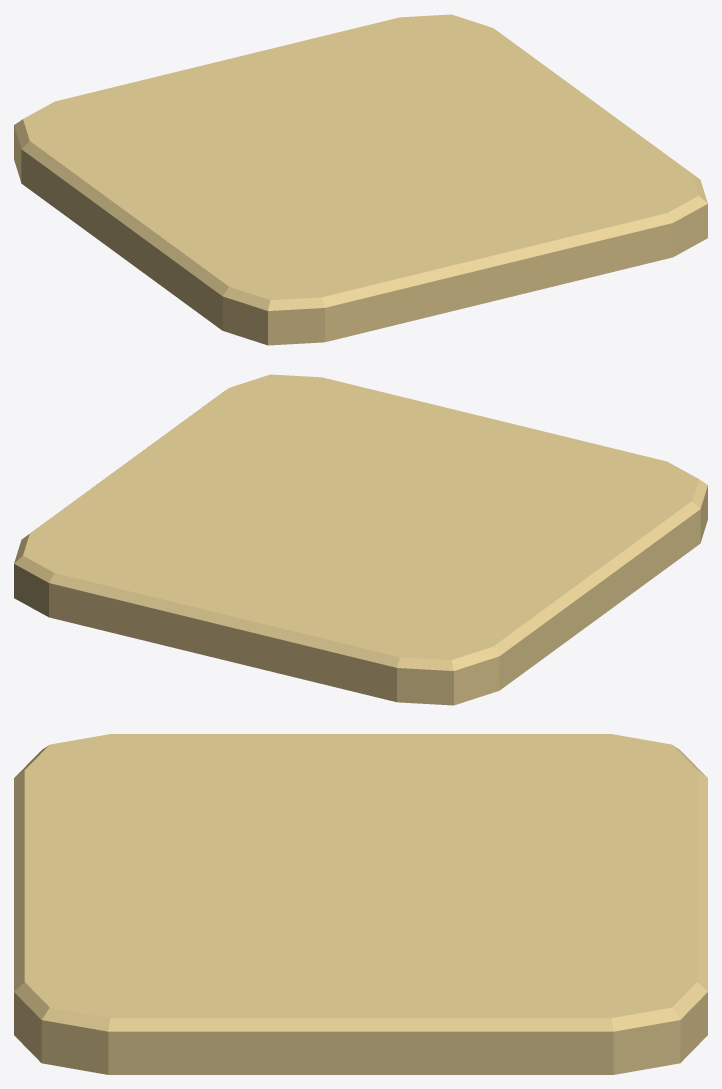
The model's file is trotuarTwo.fbx.
3 views of the same model, one above another, from view 1: azimuth 30°, elevation 25°; view 2: azimuth 150°, elevation 25°; view 3: azimuth 270°, elevation 25° (orthographic). The views are drawn at different scales.
Parts seen in each view (by area): view 1: Plane.032; view 2: Plane.032; view 3: Plane.032.
Part boxes in pixels (box(x1,y1,x2,y2)): Plane.032: box(14, 14, 707, 345); Plane.032: box(14, 374, 707, 705); Plane.032: box(14, 734, 707, 1074).
Size of the model in its own units: 212 by 17.64 by 212.
